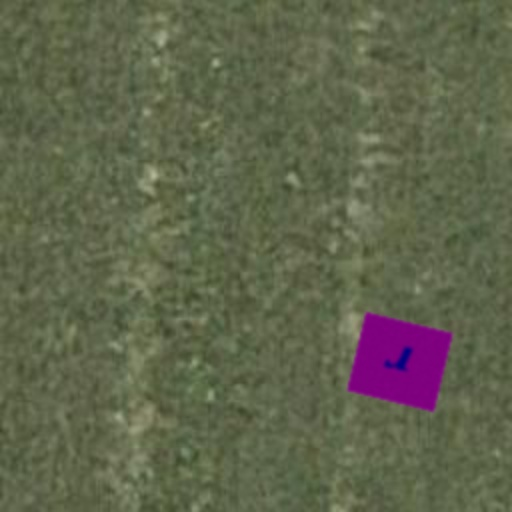rectangle: (344, 306, 456, 418)
